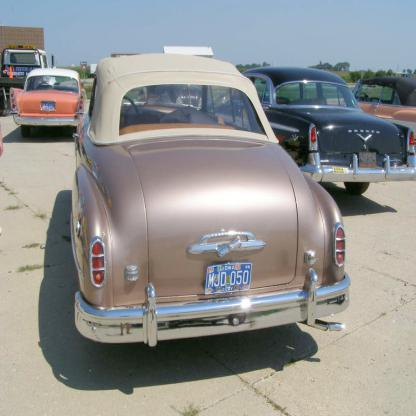Car: (9, 52, 416, 339)
